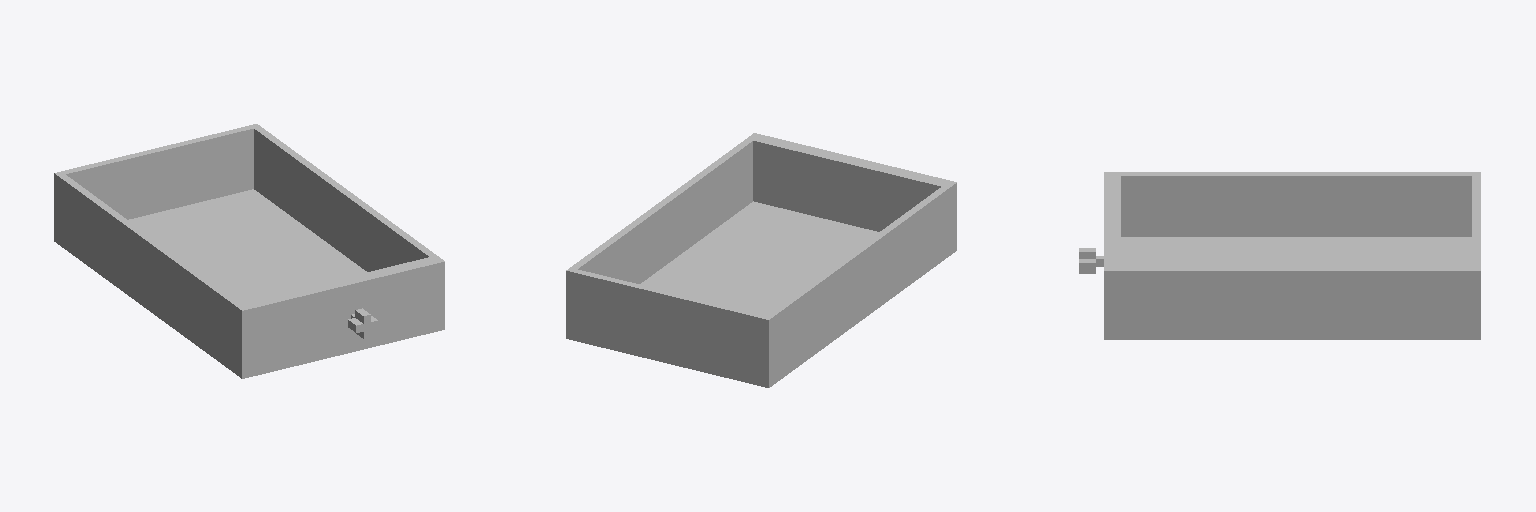
File: bureau Prof-0.obj
The picture shows the model from 3 angles: view 1: azimuth 30°, elevation 25°; view 2: azimuth 150°, elevation 25°; view 3: azimuth 270°, elevation 25°; orthographic projection.
Visible parts, largest first — view 1: object 1; view 2: object 1; view 3: object 1.
Boxes of the visible parts, x1,y1,x2,y2 form: object 1: [54, 124, 444, 378]; object 1: [566, 133, 956, 387]; object 1: [1079, 172, 1480, 339].
Size of the model in its own units: 2.8 by 0.9 by 4.8.